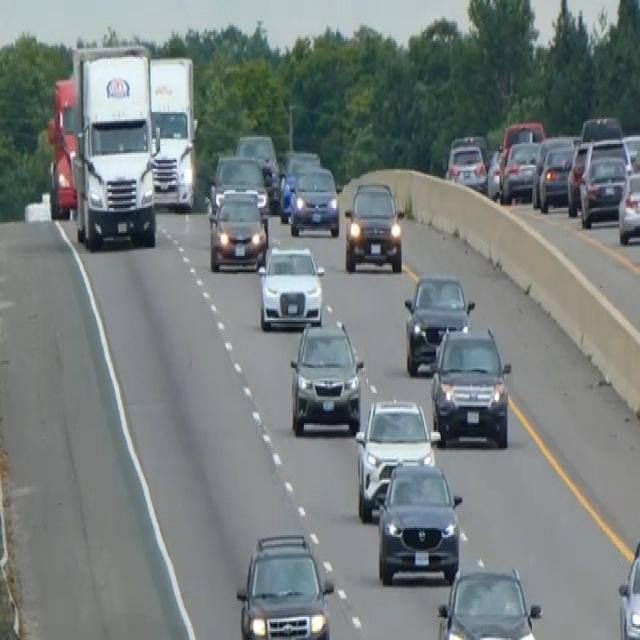car: (376, 457, 463, 585), (235, 530, 334, 638), (354, 396, 439, 521), (429, 324, 512, 448), (289, 318, 363, 436), (436, 562, 542, 638), (403, 272, 474, 375), (256, 242, 325, 331), (343, 180, 403, 272), (207, 187, 267, 272), (207, 153, 269, 222), (578, 151, 628, 228), (288, 164, 341, 236), (234, 132, 280, 204), (278, 147, 320, 220), (499, 138, 540, 202), (538, 142, 575, 212), (445, 137, 487, 192), (617, 539, 639, 638), (566, 139, 591, 215), (500, 117, 544, 160), (617, 167, 639, 244), (579, 112, 623, 142), (485, 146, 503, 199)
lorry: (50, 41, 159, 251)
